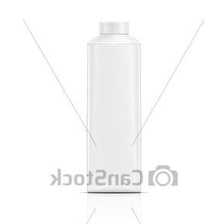carton: (78, 16, 147, 195)
